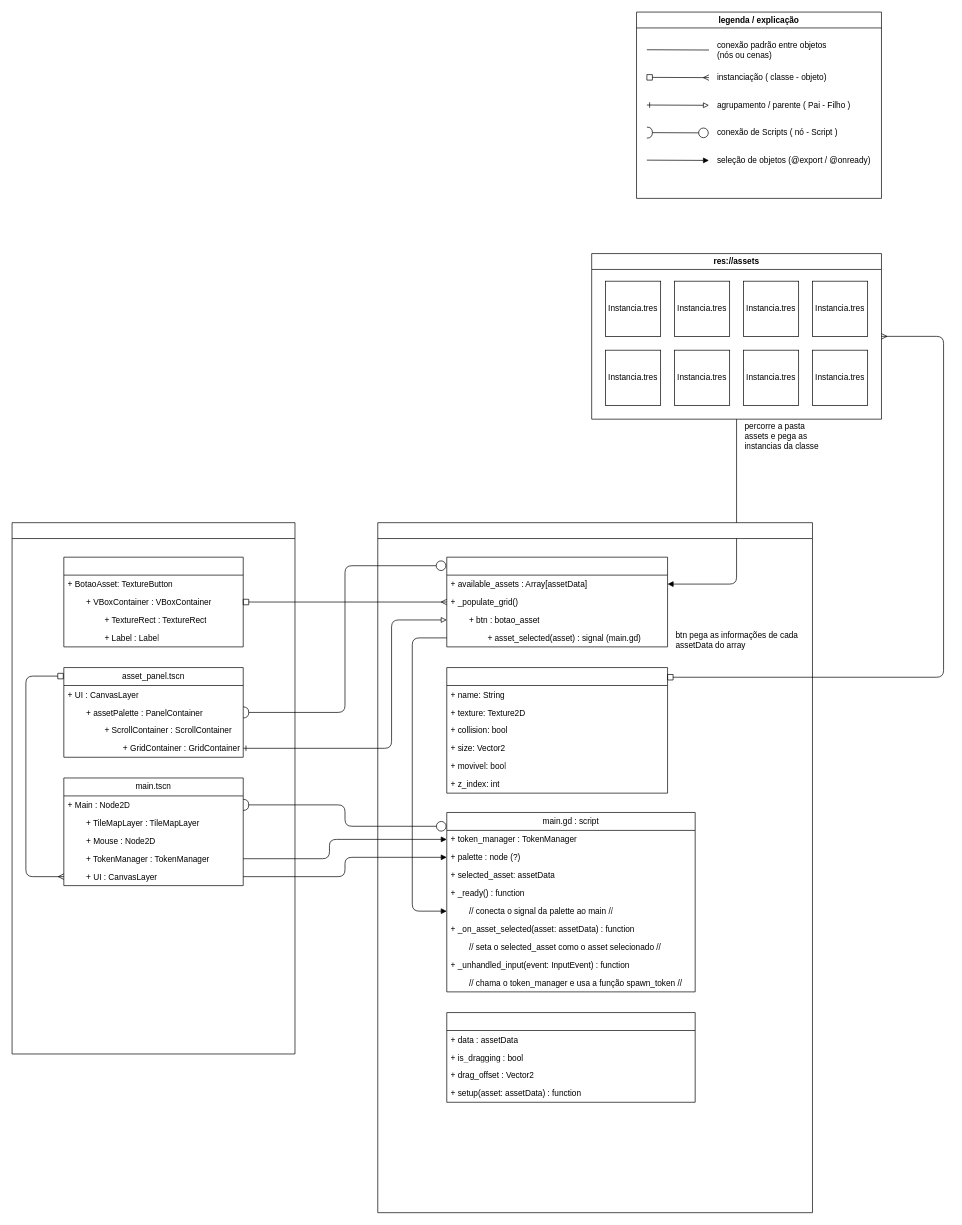
Some shapes in this 962 by 1225 pixel diagram are drawn without their labels. Each missing label, with the box of its shape:
asset_palette.gd : script: (446, 556, 668, 647)
AssetData.gd : classe para resource: (446, 667, 668, 793)
botao_asset.tscn: (63, 556, 243, 647)
res://scenes: (11, 522, 295, 1054)
res://scripts: (377, 522, 812, 1213)
token.gd : classe para Node2D: (446, 1012, 695, 1102)
